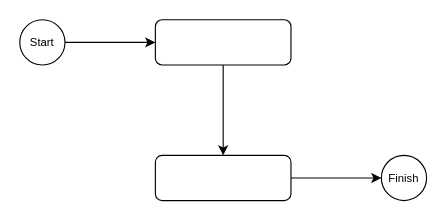
Image size: 446x220. Some labels were removed from this diagram. Each missing label, with the box of its shape:
Click Friends Link: (154, 154, 291, 201)
Select Nav Menu: (154, 19, 291, 65)
